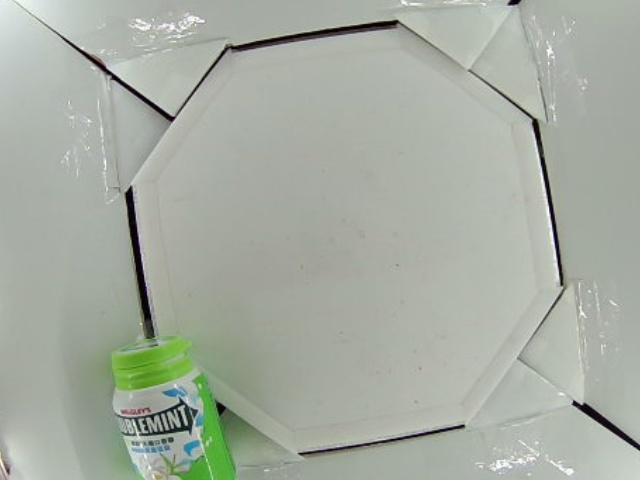Bottle: (108, 332, 243, 480)
